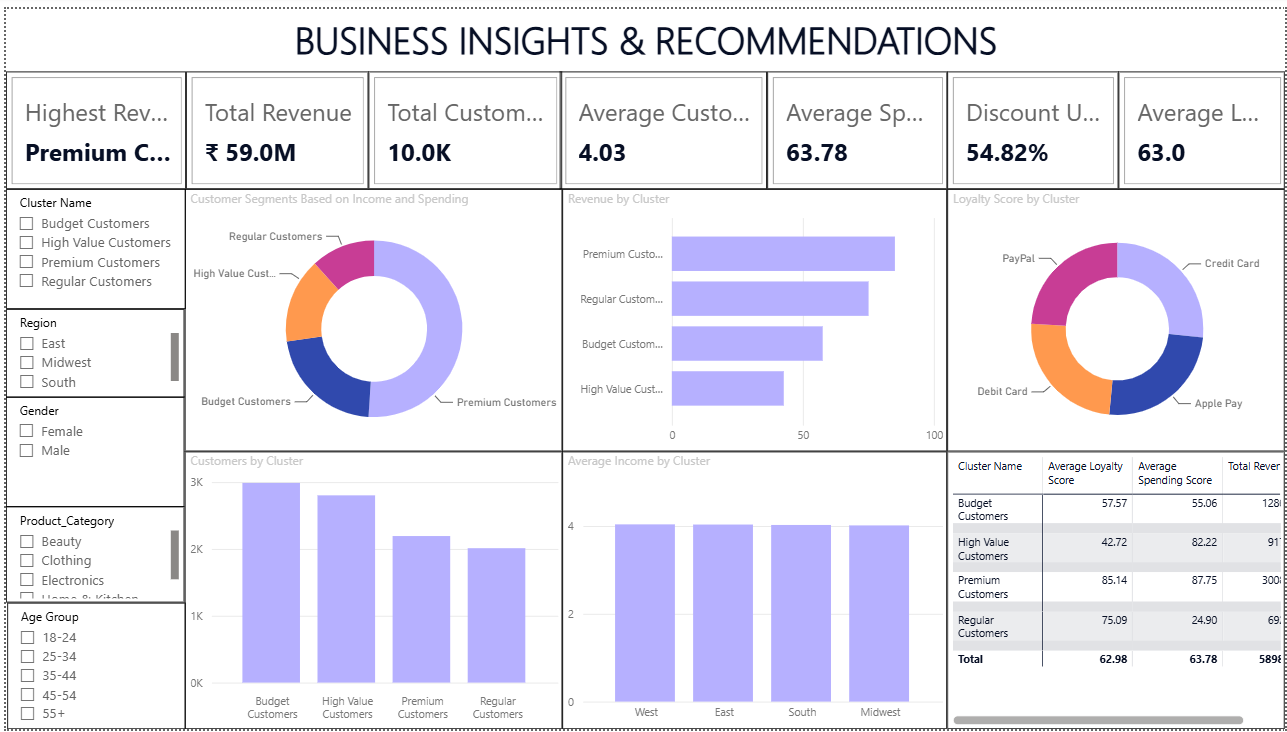

What the dashboard file says about the page in this screenshot:
{"tool":"powerbi","page":{"name":"BUSINESS INSIGHTS & RECOMMENDATIONS","canvas":[1280,720],"ordinal":4},"visuals":[{"type":"cardVisual","fields":{"Data":["Customer Data.Highest Revenue Segment"]},"box":[0,62.5,180,117.5],"z":0},{"type":"cardVisual","fields":{"Data":["Customer Data.Average Customer Satisfaction"]},"box":[553.8,62.5,207.5,117.5],"z":1000},{"type":"cardVisual","fields":{"Data":["Customer Data.Average Spending Score"]},"box":[761.2,62.5,180,117.5],"z":2000},{"type":"cardVisual","fields":{"Data":["Customer Data.Average Loyalty Score"]},"box":[1112.5,62.5,167.5,117.5],"z":3000},{"type":"cardVisual","fields":{"Data":["Customer Data.Discount Usage %"]},"box":[941.2,62.5,171.2,117.5],"z":4000},{"type":"cardVisual","fields":{"Data":["Customer Data.Total Customers"]},"box":[362.5,62.5,193.8,117.5],"z":5000},{"type":"cardVisual","fields":{"Data":["Customer Data.Total Revenue"]},"box":[180,62.5,182.5,117.5],"z":6000},{"type":"donutChart","title":"Customer Segments Based on Income and Spending","fields":{"Y":["Sum(Customer Data.Purchase_Amount)"],"Category":["Customer Data.Cluster Name"]},"box":[178.8,180,377.5,262.5],"z":7000},{"type":"clusteredColumnChart","title":"Customers by Cluster","fields":{"Y":["CountNonNull(Customer Data.Customer_ID)"],"Category":["Customer Data.Cluster Name"]},"box":[178.8,442.5,377.5,277.5],"z":8000},{"type":"barChart","title":"Revenue by Cluster","fields":{"Category":["Customer Data.Cluster Name"],"Y":["Customer Data.Average Loyalty Score"]},"box":[556.2,180,385,262.5],"z":9000},{"type":"columnChart","title":"Average Income by Cluster","fields":{"Category":["Customer Data.Region"],"Y":["Customer Data.Average Customer Satisfaction"]},"box":[556.2,442.5,385,277.5],"z":10000},{"type":"donutChart","title":"Loyalty Score by Cluster","fields":{"Category":["Customer Data.Payment_Method"],"Y":["Sum(Customer Data.Purchase_Amount)"]},"box":[941.2,180,338.8,262.5],"z":11000},{"type":"textbox","box":[0,0,1280,62.5],"z":12000},{"type":"slicer","fields":{"Values":["Customer Data.Cluster Name"]},"box":[0,180,180,120],"z":13000},{"type":"slicer","fields":{"Values":["Customer Data.Region"]},"box":[0,300,178.8,88.8],"z":14000},{"type":"slicer","fields":{"Values":["Customer Data.Gender"]},"box":[0,387.5,178.8,110],"z":15000},{"type":"slicer","fields":{"Values":["Customer Data.Product_Category"]},"box":[0,497.5,178.8,96.2],"z":16000},{"type":"slicer","fields":{"Values":["Customer Data.Age Group"]},"box":[1.2,593.8,178.8,126.2],"z":17000},{"type":"pivotTable","title":"Spending Score vs Loyalty Score","fields":{"Values":["Customer Data.Average Loyalty Score","Customer Data.Average Spending Score","Customer Data.Total Revenue"],"Rows":["Customer Data.Cluster Name"]},"box":[941.2,442.5,338.8,277.5],"z":18000}]}

Visuals, with their boxes in screenshot pixels (x1, y1, x2, y2), scaled from the page's 1280x720 canvas onto the 1287x732 screenshot:
cardVisual - Customer Data.Highest Revenue Segment: 0,64,181,183
cardVisual - Customer Data.Average Customer Satisfaction: 557,64,765,183
cardVisual - Customer Data.Average Spending Score: 765,64,946,183
cardVisual - Customer Data.Average Loyalty Score: 1119,64,1286,183
cardVisual - Customer Data.Discount Usage %: 946,64,1118,183
cardVisual - Customer Data.Total Customers: 364,64,559,183
cardVisual - Customer Data.Total Revenue: 181,64,364,183
"Customer Segments Based on Income and Spending" donutChart: 180,183,559,450
"Customers by Cluster" clusteredColumnChart: 180,450,559,731
"Revenue by Cluster" barChart: 559,183,946,450
"Average Income by Cluster" columnChart: 559,450,946,731
"Loyalty Score by Cluster" donutChart: 946,183,1286,450
textbox: 0,0,1286,64
slicer - Customer Data.Cluster Name: 0,183,181,305
slicer - Customer Data.Region: 0,305,180,395
slicer - Customer Data.Gender: 0,394,180,506
slicer - Customer Data.Product_Category: 0,506,180,604
slicer - Customer Data.Age Group: 1,604,181,731
"Spending Score vs Loyalty Score" pivotTable: 946,450,1286,731
